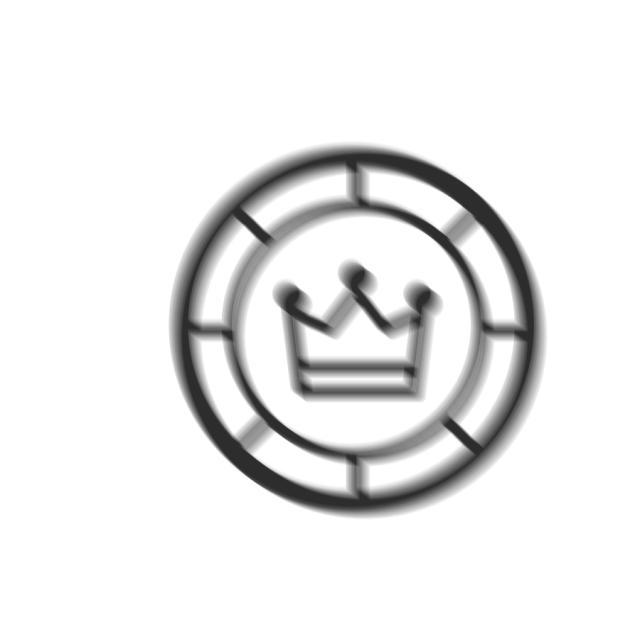coin: (161, 141, 552, 528)
